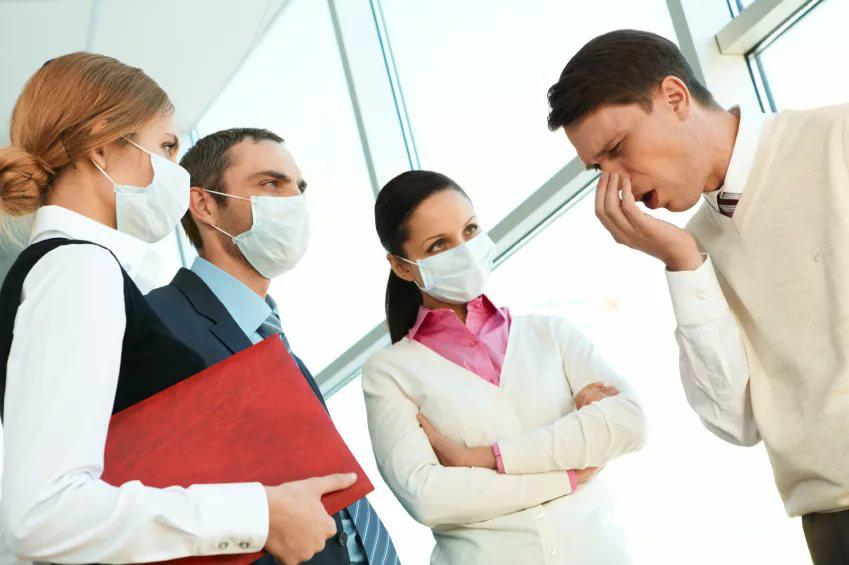mask: (215, 139, 315, 283), (110, 109, 198, 246), (405, 189, 495, 301)
none: (563, 96, 697, 217)
